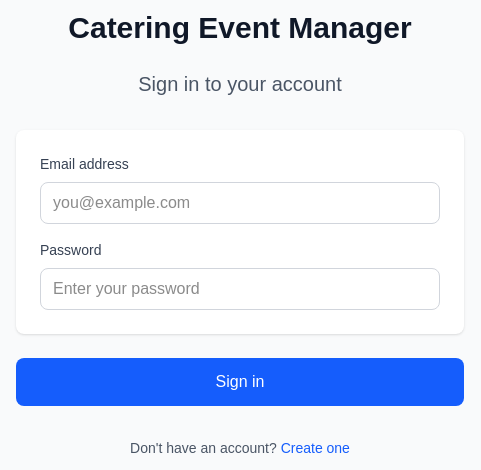
Test: LoginForm › shows loading state while submitting
Type "test@example.com" into the field labelled "Email address".
click(240, 203); type("test@example.com")  # box [40,182,440,224]
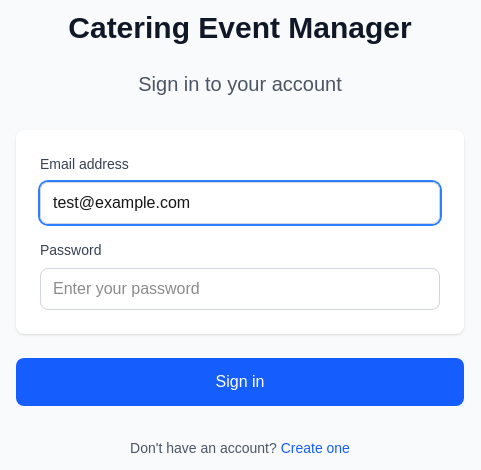
Type "password123" into the password field labelled "Password".
click(240, 289); type("password123")  # box [40,268,440,310]
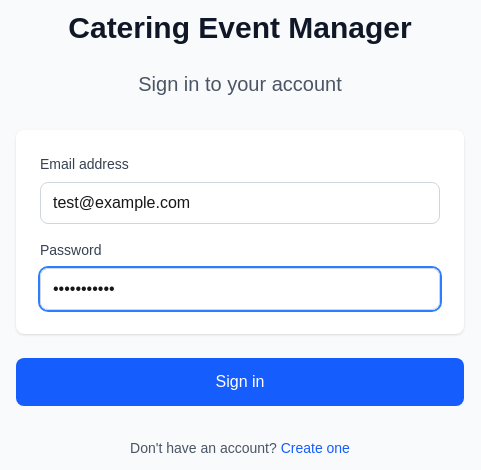
Click the button "Sign in".
click(240, 382)  # box [16,358,464,406]
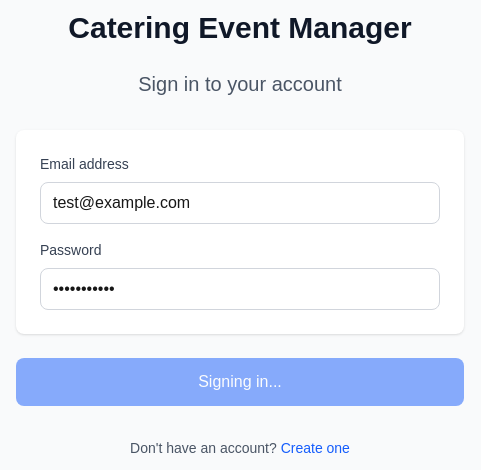
Expected: the button "Signing in..." is disabled, [16,358,464,406]
